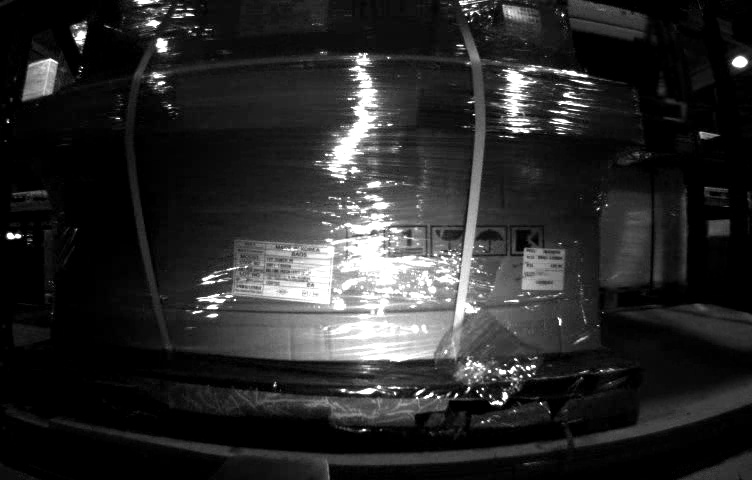True Barcode: (523, 246, 566, 291)
